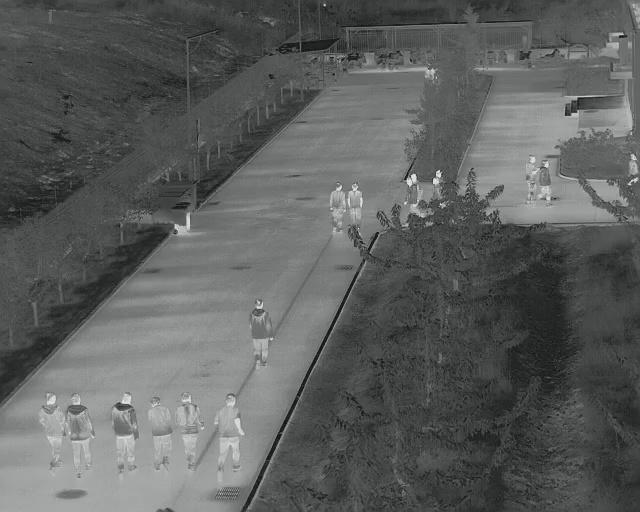person: (214, 394, 244, 482), (65, 394, 93, 478), (176, 392, 204, 472), (109, 392, 136, 474), (146, 396, 172, 469), (41, 393, 64, 473), (251, 300, 272, 371), (330, 183, 345, 235), (347, 181, 363, 225), (539, 159, 554, 205), (404, 172, 423, 207), (526, 155, 535, 203), (431, 169, 442, 198)
